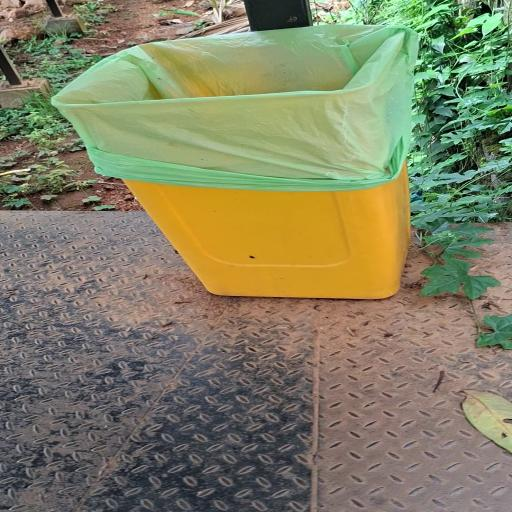Nilkamal-dustbin-detection: (53, 25, 416, 298)
